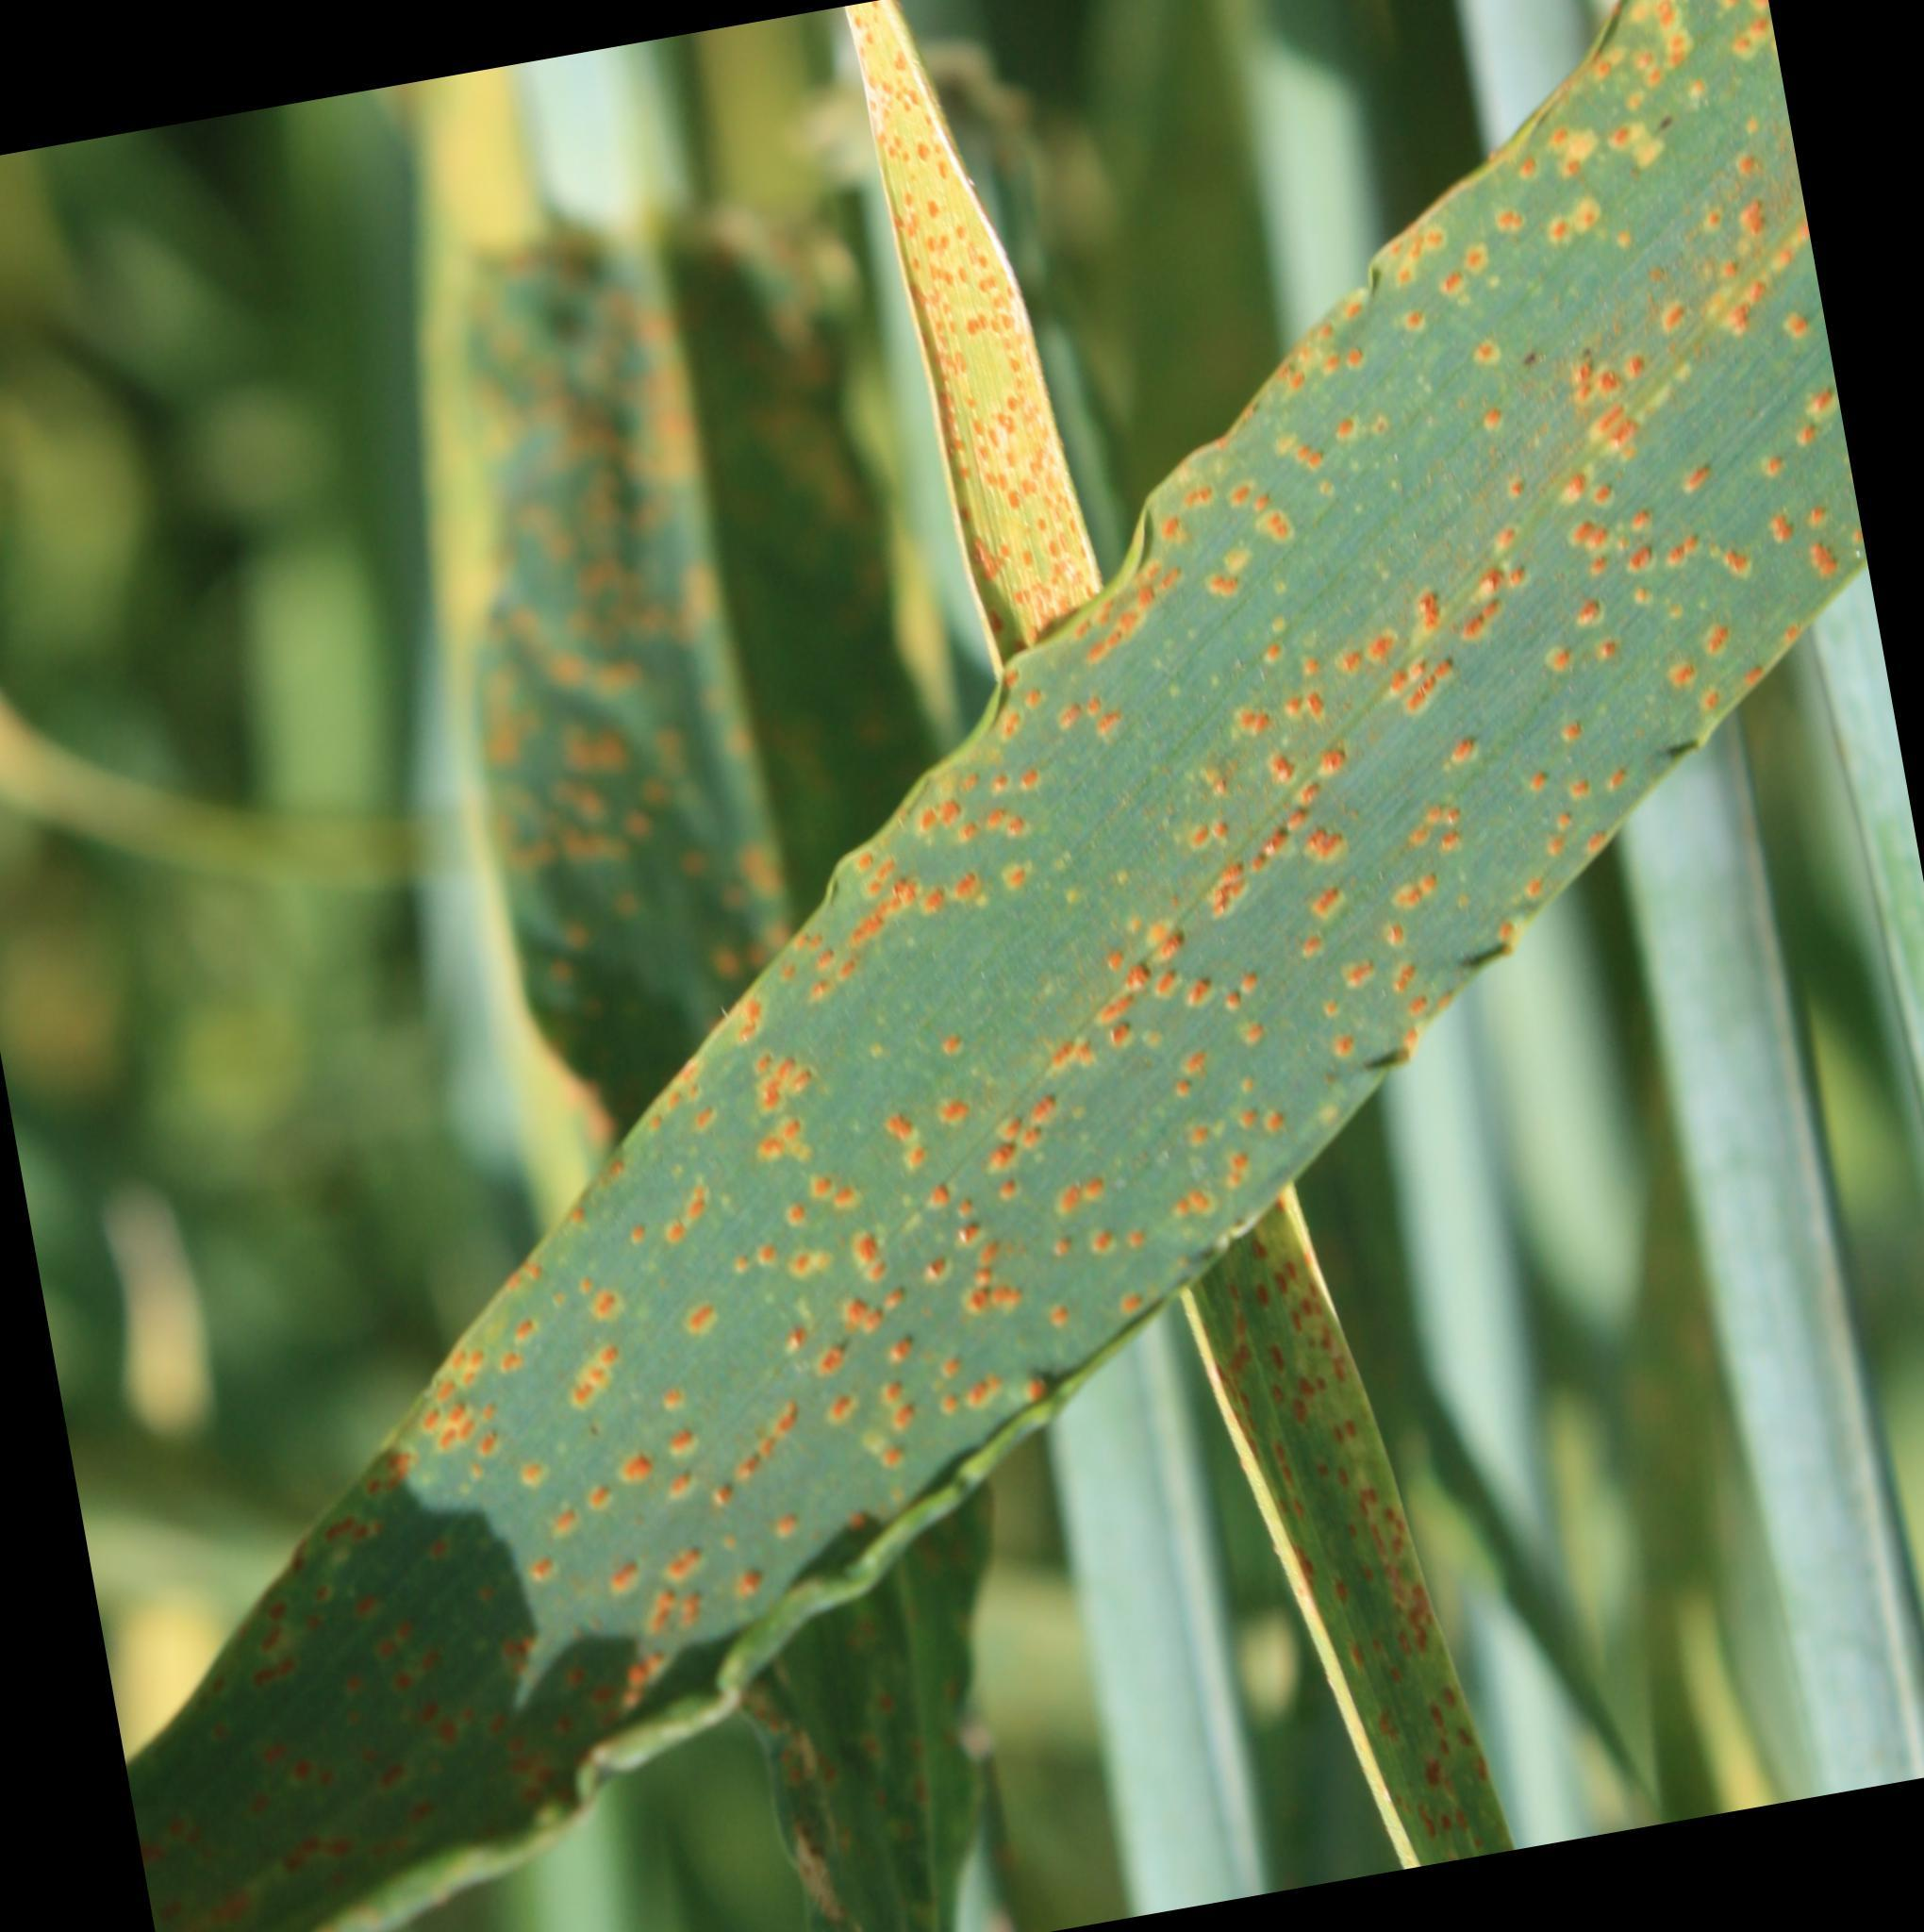Wheat: (647, 448, 1727, 1405), (1473, 33, 1806, 532)
